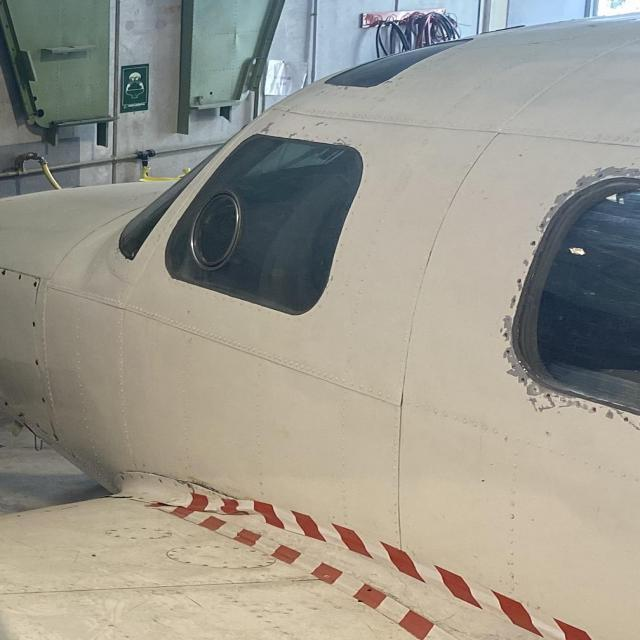Paint-off: (524, 396, 563, 415), (577, 400, 600, 418), (260, 120, 281, 135), (332, 136, 352, 145), (632, 418, 640, 440), (313, 122, 339, 128), (284, 132, 299, 138)
